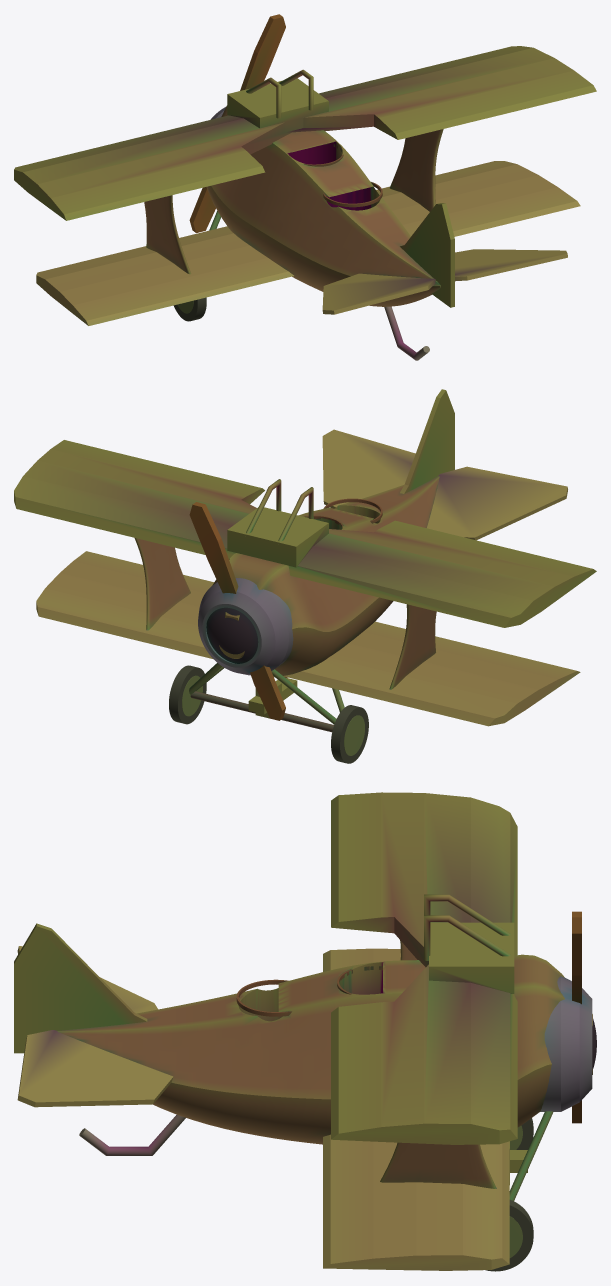
3 views of the same model, one above another, from view 1: azimuth 30°, elevation 25°; view 2: azimuth 150°, elevation 25°; view 3: azimuth 270°, elevation 25° (orthographic). The views are drawn at different scales.
Visible parts, largest first — view 1: upper, lower, body, tailplane, fin, interplane_strut, interplane_strut.001, blade, blade.001, skid; view 2: upper, lower, body, tailplane, cowling, fin, interplane_strut, engine, interplane_strut.001, blade, tire.001, blade.001 (+6 smaller); view 3: upper, body, lower, tailplane, fin, cowling, interplane_strut, skid, tire, upper_frame, blade, gear_leg.001 (+1 smaller).
Part boxes in pixels (x1,y1,x2,y2): upper: [14, 46, 596, 220]; lower: [36, 161, 580, 325]; body: [206, 105, 440, 306]; tailplane: [322, 249, 567, 314]; fin: [400, 203, 454, 307]; interplane_strut: [389, 129, 443, 211]; interplane_strut.001: [144, 195, 190, 274]; blade: [240, 14, 285, 90]; blade.001: [189, 187, 215, 232]; skid: [384, 306, 429, 360]; upper: [14, 440, 596, 627]; lower: [36, 551, 580, 726]; body: [212, 476, 439, 677]; tailplane: [322, 429, 567, 540]; cowling: [198, 578, 293, 675]; fin: [400, 389, 454, 493]; interplane_strut: [134, 538, 190, 630]; engine: [206, 607, 258, 663]; interplane_strut.001: [389, 604, 436, 689]; blade: [189, 502, 238, 593]; tire.001: [331, 705, 368, 763]; blade.001: [250, 665, 285, 720]; upper: [331, 792, 517, 1144]; body: [57, 954, 592, 1144]; lower: [323, 948, 509, 1270]; tailplane: [17, 946, 173, 1107]; fin: [14, 923, 147, 1053]; cowling: [540, 976, 592, 1111]; interplane_strut: [380, 1142, 495, 1188]; skid: [79, 1114, 185, 1155]; tire: [485, 1199, 533, 1271]; upper_frame: [424, 915, 510, 960]; blade: [572, 911, 581, 1004]; gear_leg.001: [509, 1111, 553, 1200].
Bounding box in the file's own units: 8 × 3.6 × 5.81.
